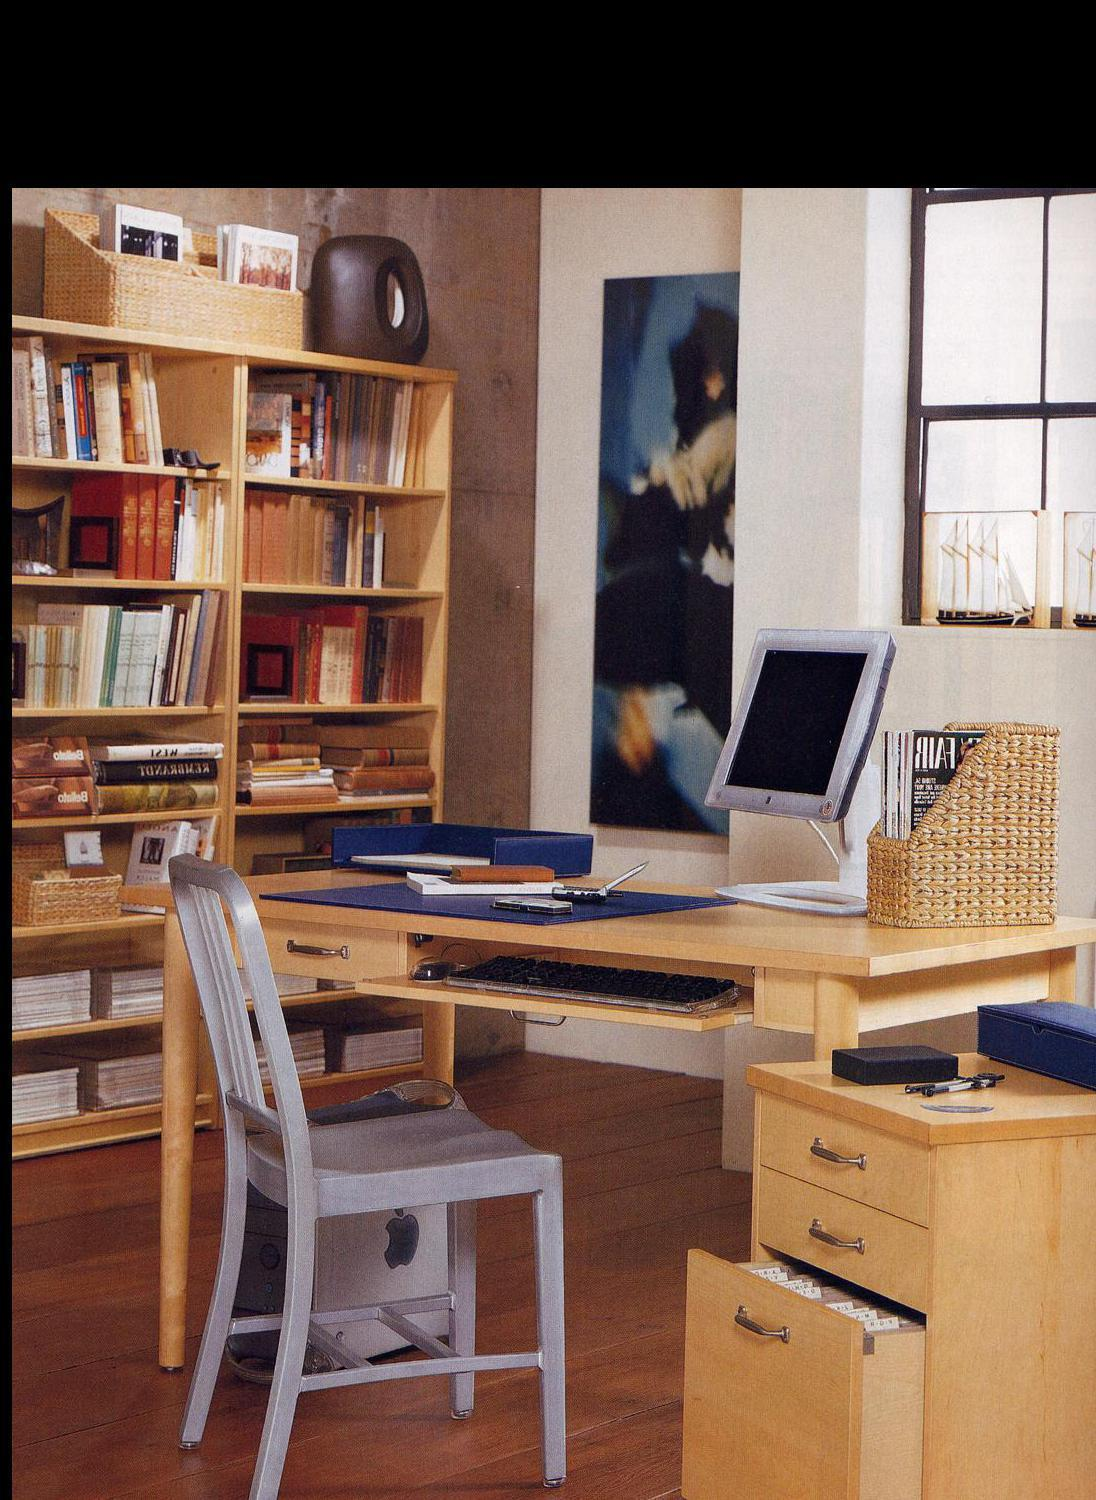Armario: (693, 1075, 1096, 1500)
